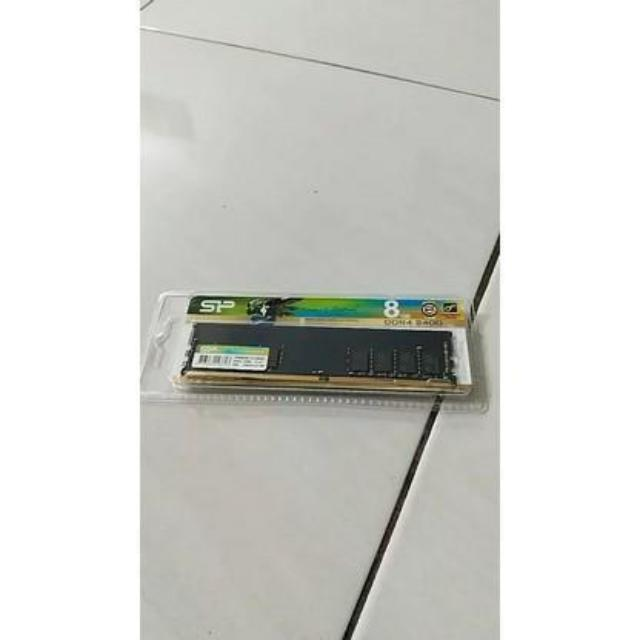RAM: (172, 320, 463, 402)
